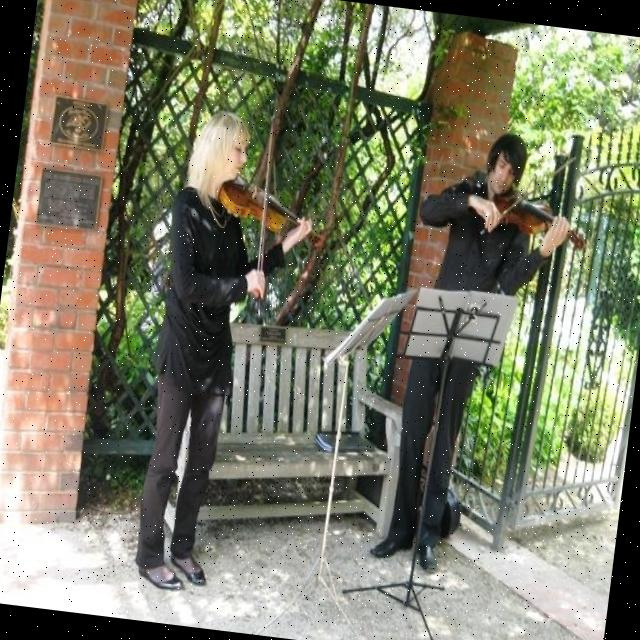violin: (211, 171, 329, 248), (483, 184, 590, 253)
